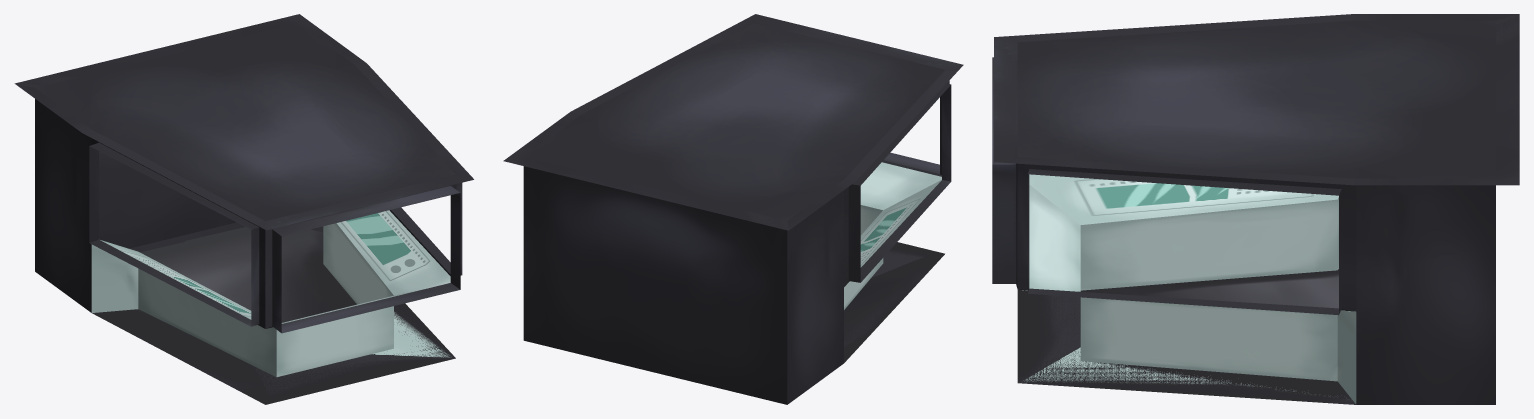
Rendered from F_Kokpit.fbx.
The picture shows the model from 3 angles, left to right: view 1: azimuth 30°, elevation 25°; view 2: azimuth 150°, elevation 25°; view 3: azimuth 270°, elevation 25°; orthographic projection. The views are drawn at different scales.
Parts seen in each view (by area): view 1: Cube.001; view 2: Cube.001; view 3: Cube.001.
Boxes of the visible parts, x1=… form: Cube.001: x1=14, y1=14, x2=473, y2=404; Cube.001: x1=503, y1=14, x2=963, y2=404; Cube.001: x1=992, y1=14, x2=1519, y2=404.
Bounding box in the file's own units: 1831 × 1128 × 2382.
